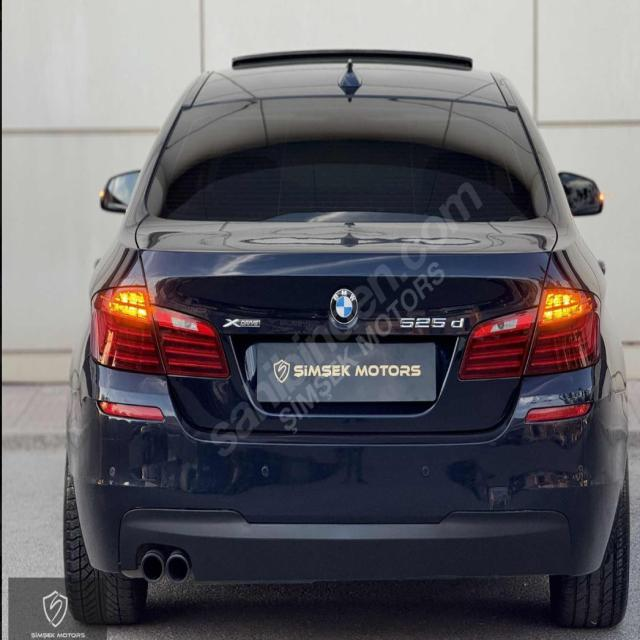bmw: (328, 287, 359, 329)
